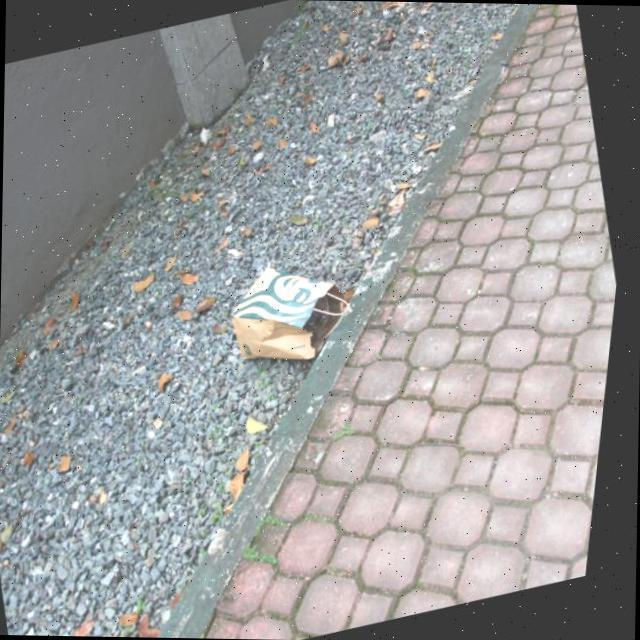Paper_Bag: (220, 246, 371, 376)
